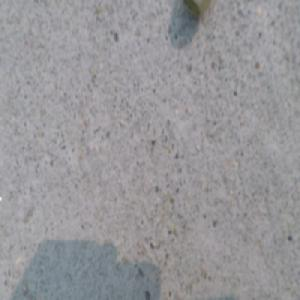BoltNutSet: (184, 1, 206, 20)
